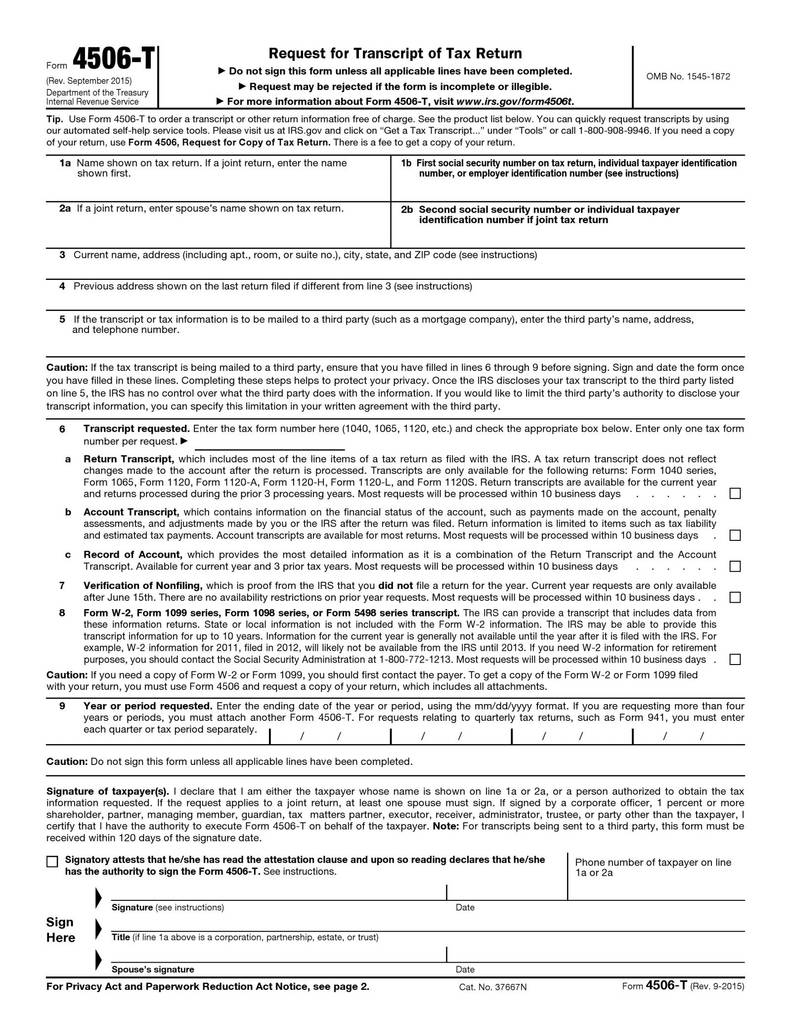checkbox: (726, 484, 745, 500), (725, 526, 744, 542), (725, 557, 744, 573), (725, 589, 744, 605), (725, 651, 744, 667), (43, 853, 62, 869)
textbox: (42, 305, 752, 358), (41, 243, 750, 282), (42, 273, 751, 312), (42, 150, 394, 205), (43, 197, 395, 252), (387, 150, 749, 203), (386, 197, 748, 250), (265, 722, 395, 748), (387, 722, 517, 748), (507, 721, 637, 747), (629, 721, 749, 748)
textline: (108, 913, 744, 934), (107, 943, 452, 964), (440, 943, 752, 966), (110, 882, 450, 902), (564, 881, 750, 906), (191, 433, 350, 453), (443, 882, 571, 905)
